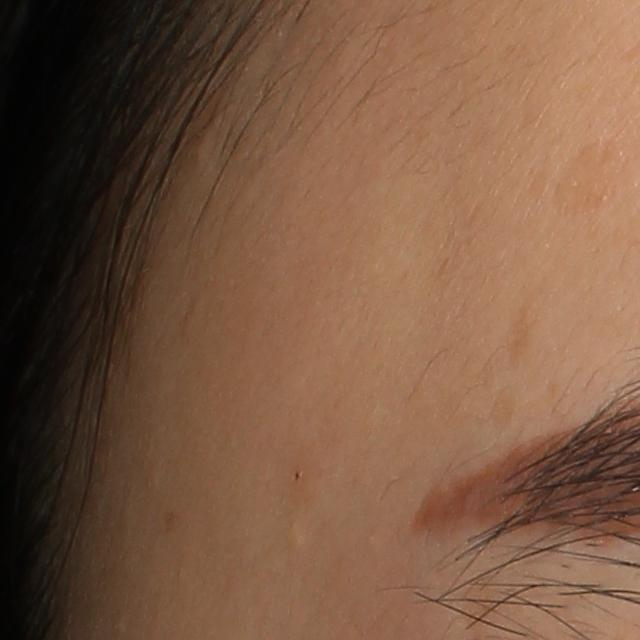comedo: (283, 519, 310, 549)
